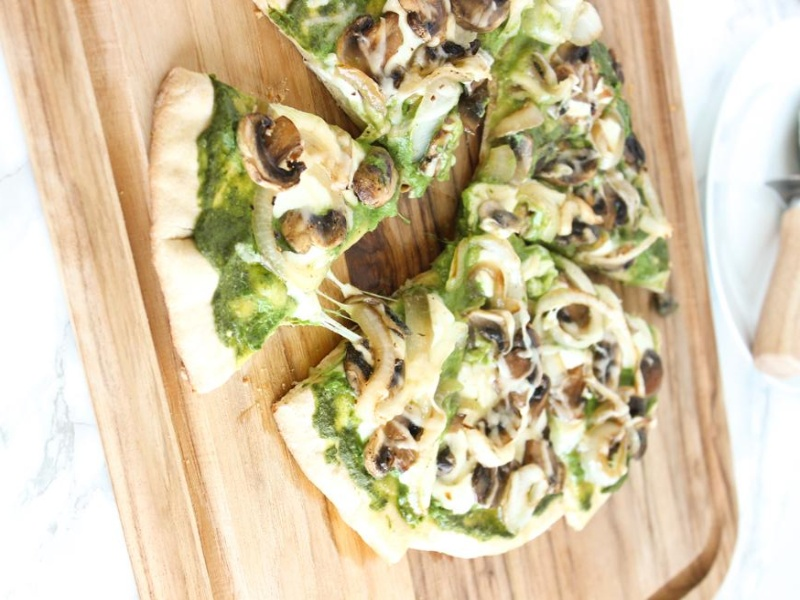champignon: (231, 105, 311, 196)
